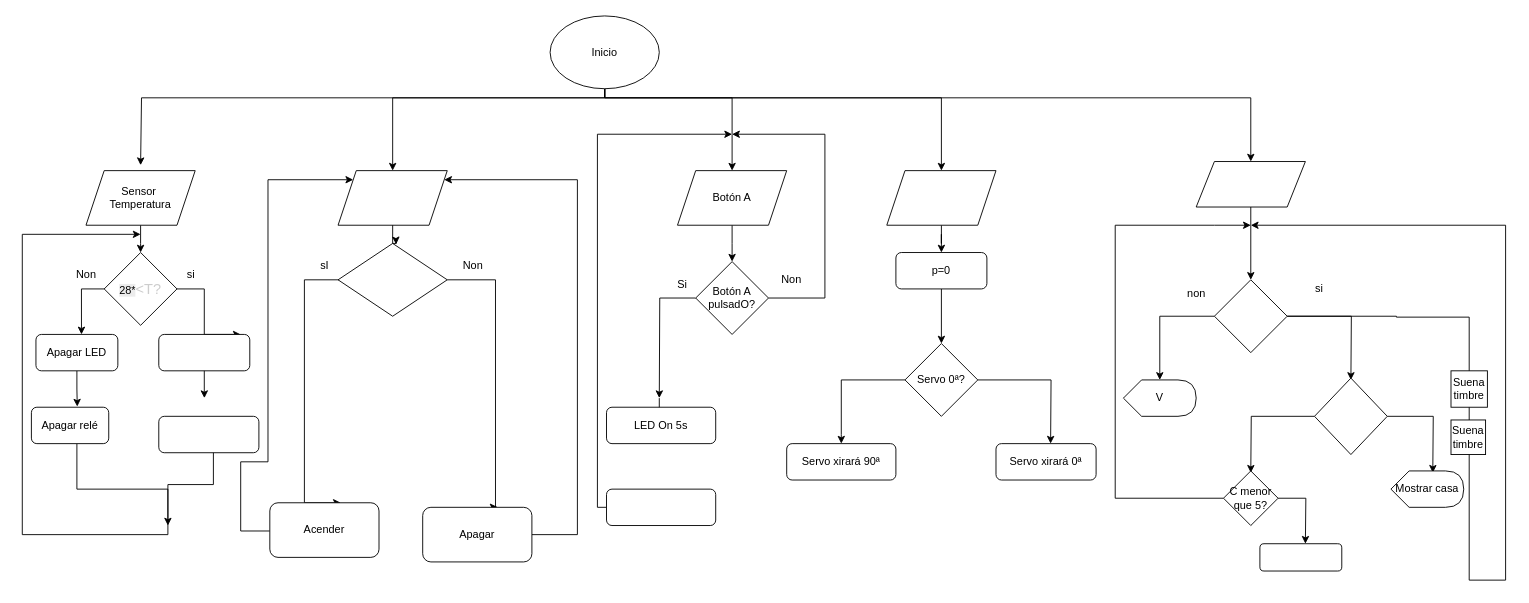
This 1529x603 diagram has some shape labels left out. Each missing label, with the box of its shape:
5 mayor que C?: (1314, 377, 1387, 455)
C=C+1: (1259, 543, 1342, 571)
LED vermello: (158, 334, 250, 371)
Luz <70?: (337, 243, 447, 316)
PIR: (1195, 161, 1305, 207)
Presenza?: (1213, 279, 1287, 353)
Relé: (158, 415, 259, 453)
Reproduce o son RINGTONE: (606, 488, 716, 526)
Sensor de luz LRD: (337, 170, 447, 225)
Servo 0ª: (886, 170, 996, 225)
